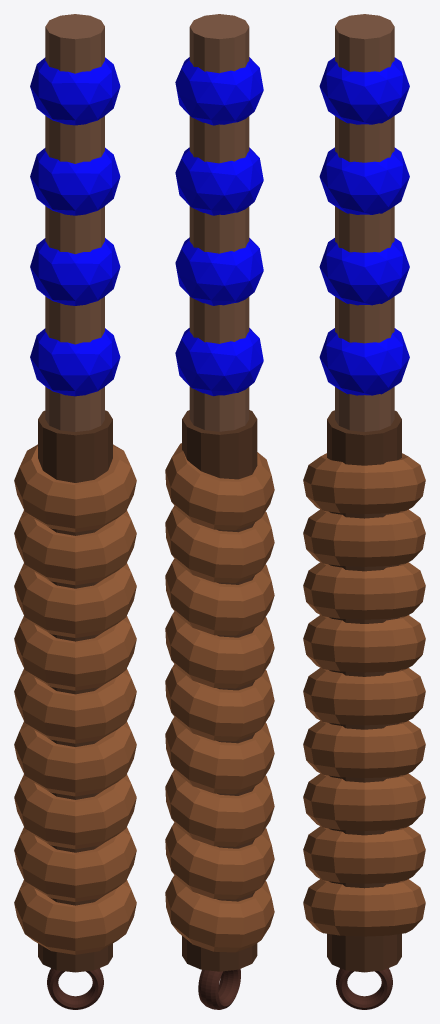
File: Wand 431.glb
3 renders of one model, left to right at view 1: azimuth 90°, elevation 25°; view 2: azimuth 150°, elevation 25°; view 3: azimuth 270°, elevation 25°, orthographic.
Parts seen in each view (by area): view 1: GeneratedWand; view 2: GeneratedWand; view 3: GeneratedWand.
Boxes of the visible parts, x1,y1,x2,y2 form: GeneratedWand: (14, 14, 136, 1009); GeneratedWand: (165, 14, 274, 1009); GeneratedWand: (303, 14, 425, 1009).
Bounding box in the file's own units: 0.0497 × 0.5129 × 0.0581.
